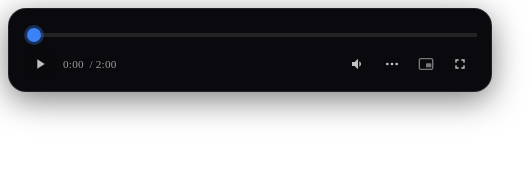
Test case: swapping panels › opens the more menu in place of the main row
Click the button with class "controls__btn--more".
click(392, 64)  # box [377,49,407,79]
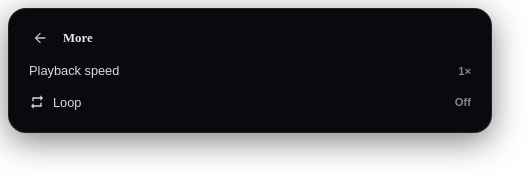
Expected: the element with class "controls__more-body" is shown, [25,53,475,120]
